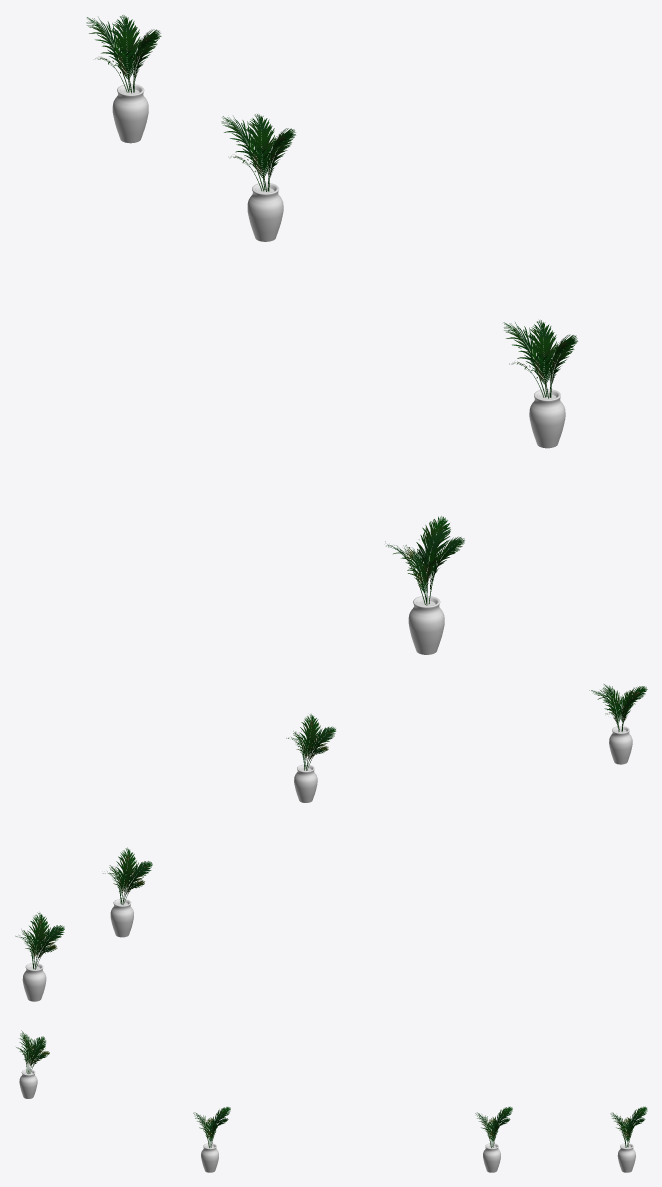
The model's file is VASE1.glb.
3 renders of one model, top to bottom at view 1: azimuth 30°, elevation 25°; view 2: azimuth 150°, elevation 25°; view 3: azimuth 270°, elevation 25°, orthographic. The views are drawn at different scales.
Parts seen in each view (by area): view 1: 1-VASE1; view 2: 1-VASE1; view 3: 1-VASE1.
Boxes of the visible parts, box(x1,y1,x2,y2) form: 1-VASE1: box(86, 15, 577, 654); 1-VASE1: box(15, 684, 647, 1001); 1-VASE1: box(16, 1030, 647, 1172).
Size of the model in its own units: 7.69 by 2.4 by 23.29.
